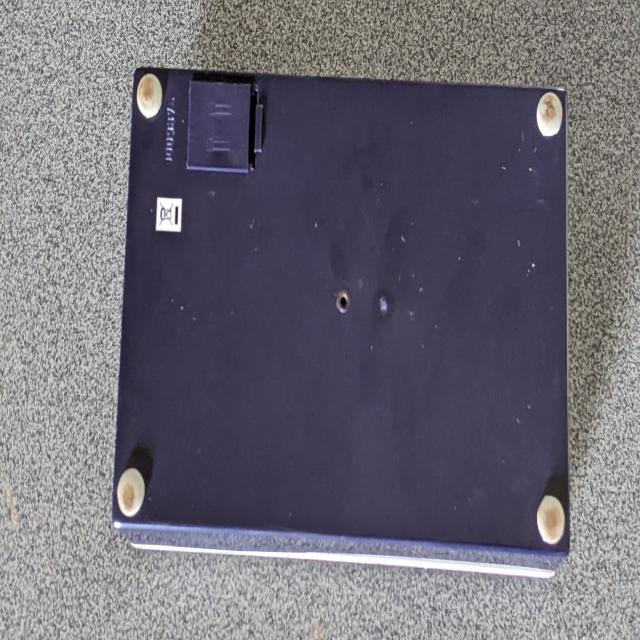Analog Multimeter: (103, 67, 585, 579)
